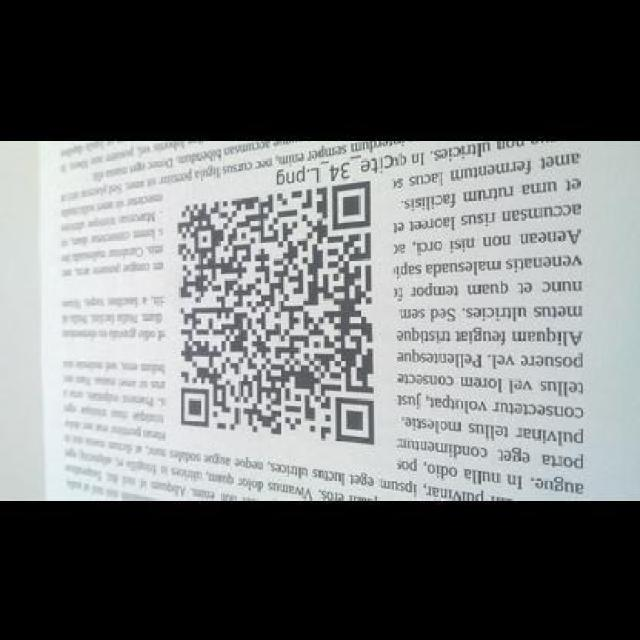QRCode: (173, 175, 383, 455)
